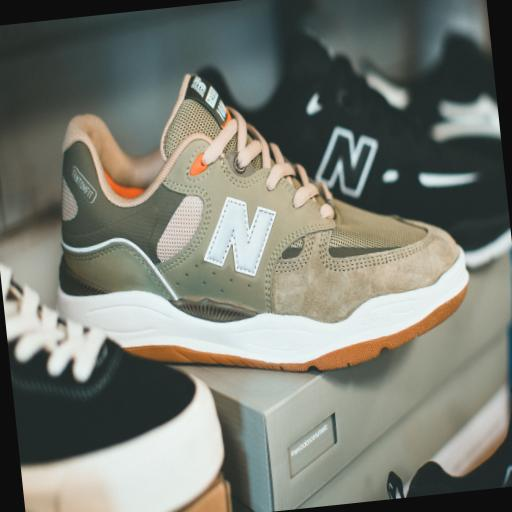shoe: (59, 75, 468, 370), (245, 35, 511, 267), (0, 265, 224, 511), (366, 35, 502, 159), (406, 415, 511, 497)
